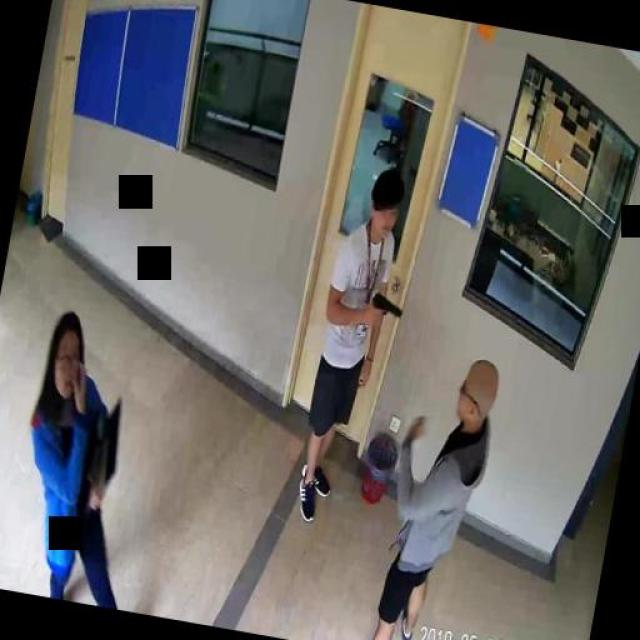gun: (366, 289, 404, 329)
